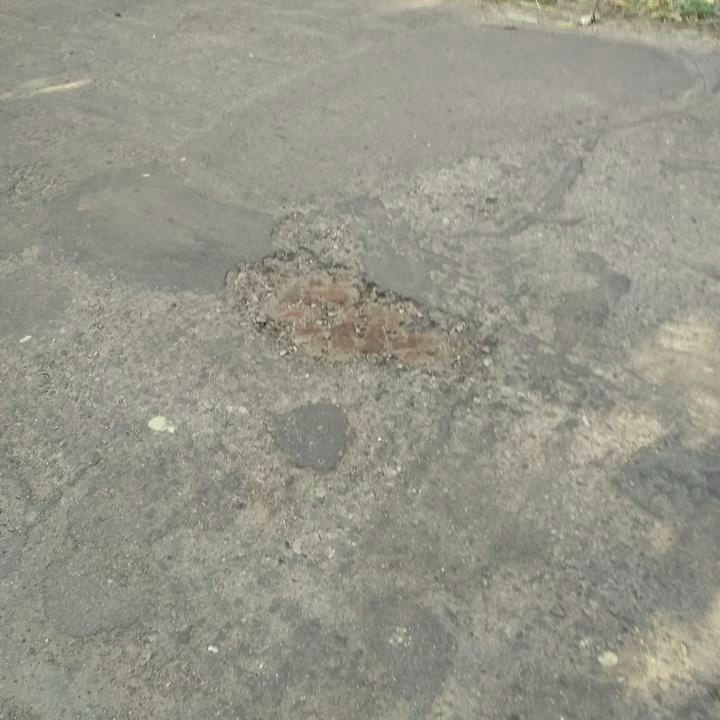pothole: (219, 245, 478, 385)
